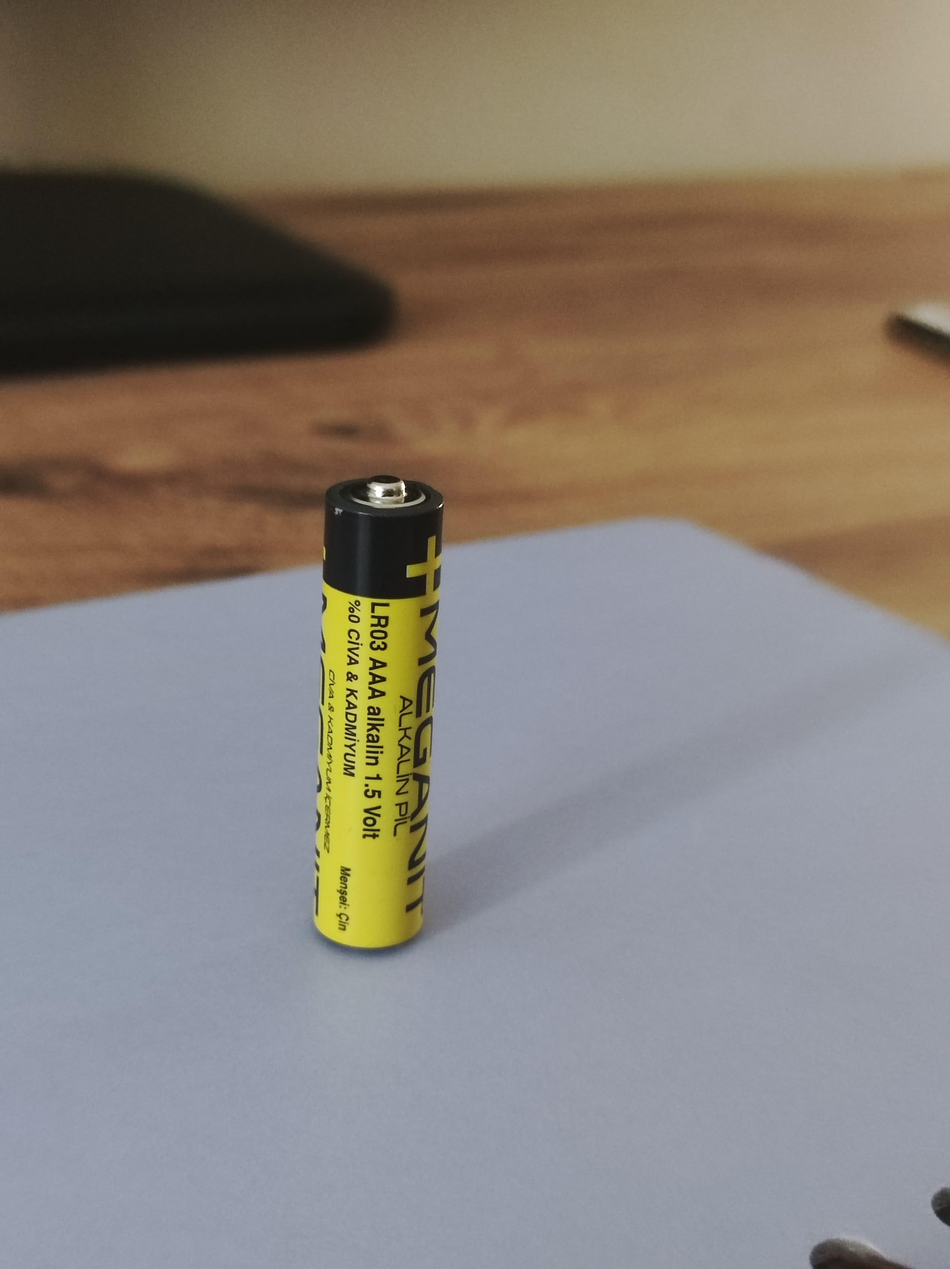AAA: (311, 473, 445, 950)
